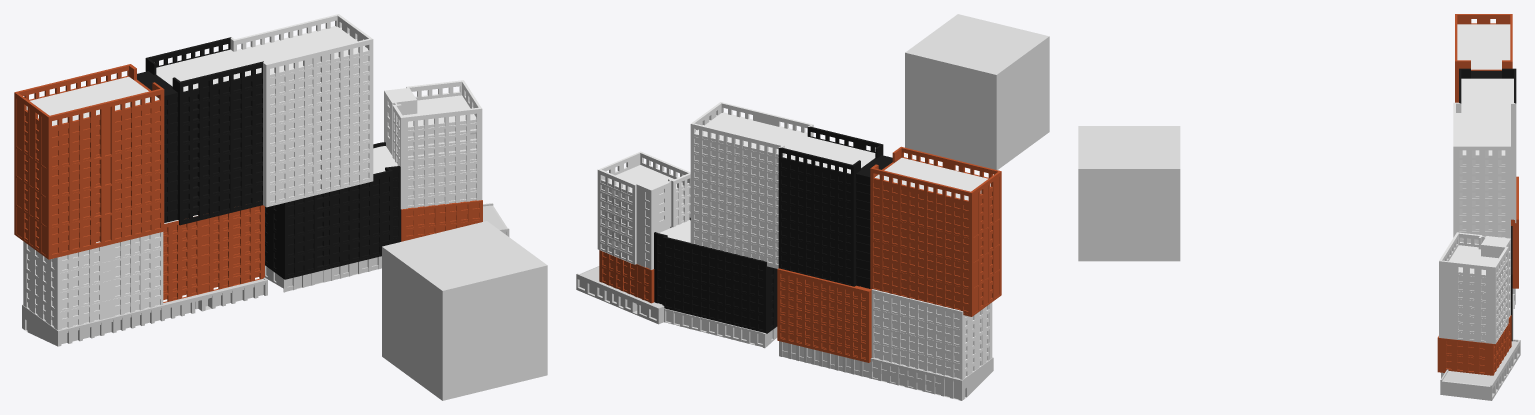
File: novator_5.1_V1.glb
3 renders of one model, left to right at view 1: azimuth 30°, elevation 25°; view 2: azimuth 150°, elevation 25°; view 3: azimuth 270°, elevation 25°, orthographic. The views are drawn at different scales.
Parts seen in each view (by area): view 1: Plane.001, Cube, Plane.002, Plane.003, Plane.005, Cube.002, Plane.004, Plane, Plane.006; view 2: Plane.001, Cube, Plane.002, Plane.003, Plane.005, Cube.002, Plane.006, Plane, Plane.004; view 3: Cube, Plane.001, Plane.005, Plane.004, Plane.006, Plane.002.
Boxes of the visible parts, left/top/right/bottom form: Plane.001: left=14, top=14, right=373, bottom=259; Cube: left=382, top=221, right=547, bottom=400; Plane.002: left=23, top=205, right=264, bottom=330; Plane.003: left=265, top=142, right=400, bottom=279; Plane.005: left=384, top=80, right=482, bottom=209; Cube.002: left=22, top=277, right=267, bottom=346; Plane.004: left=401, top=200, right=482, bottom=241; Plane: left=137, top=71, right=177, bottom=222; Plane.006: left=265, top=203, right=509, bottom=292; Plane.001: left=690, top=102, right=1001, bottom=316; Cube: left=905, top=14, right=1049, bottom=170; Plane.002: left=777, top=268, right=992, bottom=379; Plane.003: left=654, top=217, right=777, bottom=333; Plane.005: left=597, top=151, right=690, bottom=269; Cube.002: left=779, top=341, right=993, bottom=400; Plane.006: left=576, top=266, right=777, bottom=348; Plane: left=856, top=155, right=892, bottom=288; Plane.004: left=599, top=250, right=654, bottom=303; Cube: left=1078, top=126, right=1180, bottom=261; Plane.001: left=1453, top=14, right=1516, bottom=243; Plane.005: left=1439, top=232, right=1510, bottom=343; Plane.004: left=1437, top=315, right=1511, bottom=375; Plane.006: left=1440, top=294, right=1520, bottom=400; Plane.002: left=1511, top=176, right=1518, bottom=288.
Size of the model in its own units: 151 by 73.92 by 147.
